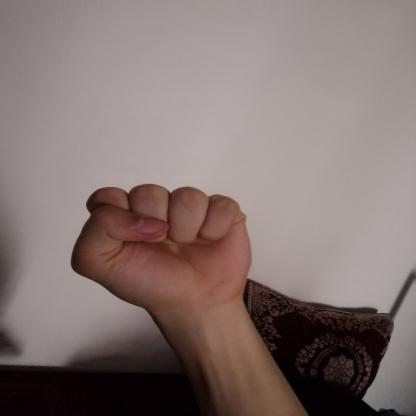SAD: (49, 171, 269, 327)
